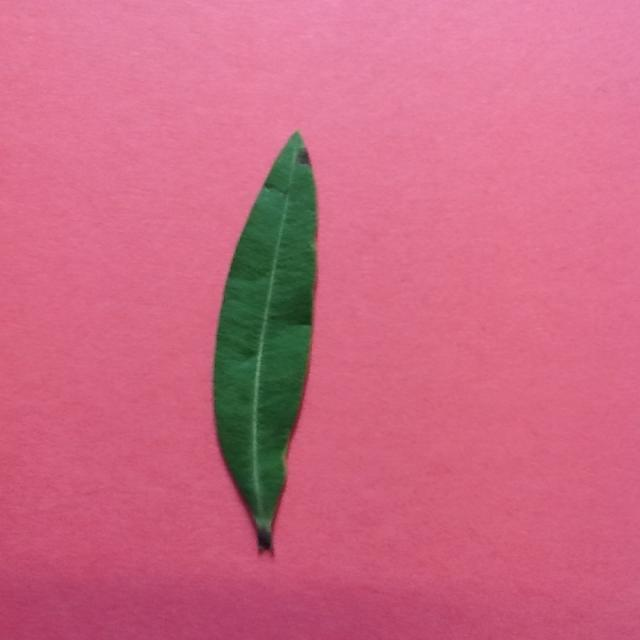foliage: (208, 127, 327, 557)
